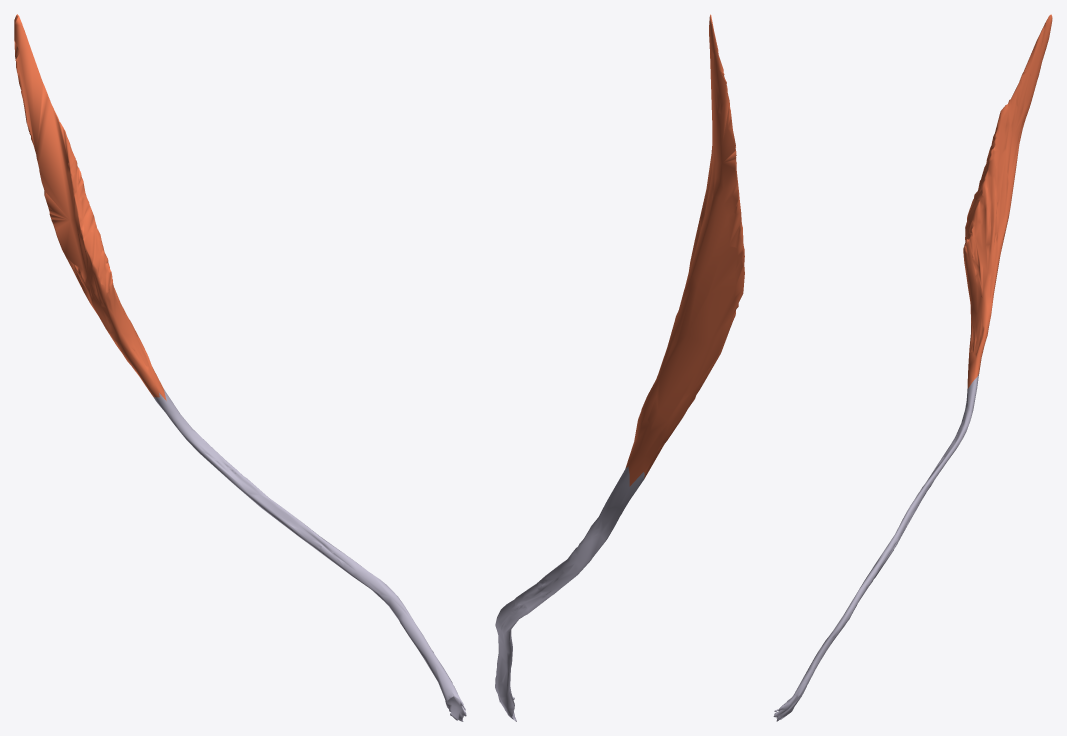
Rendered from Extensor_pollicis_longus.l_Generated_Mesh_From_X3D.963.glb.
3 views of the same model, side by side, from view 1: azimuth 30°, elevation 25°; view 2: azimuth 150°, elevation 25°; view 3: azimuth 270°, elevation 25° (orthographic). The views are drawn at different scales.
Visible parts, largest first — view 1: Extensor_pollicis_longus.l_Generated_Mesh_From_X3D.963; view 2: Extensor_pollicis_longus.l_Generated_Mesh_From_X3D.963; view 3: Extensor_pollicis_longus.l_Generated_Mesh_From_X3D.963.
Boxes of the visible parts, x1,y1,x2,y2 form: Extensor_pollicis_longus.l_Generated_Mesh_From_X3D.963: [14, 14, 466, 721]; Extensor_pollicis_longus.l_Generated_Mesh_From_X3D.963: [495, 14, 744, 721]; Extensor_pollicis_longus.l_Generated_Mesh_From_X3D.963: [773, 14, 1052, 721].
Size of the model in its own units: 0.0983 by 0.2091 by 0.0906.
